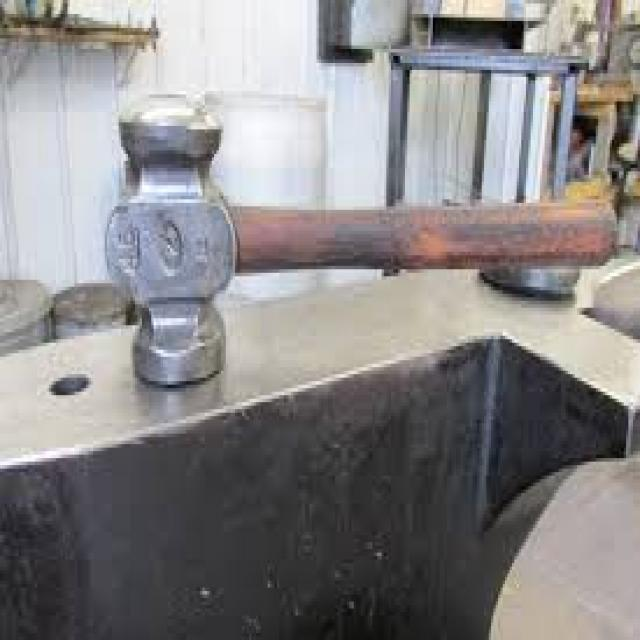hammer: (97, 77, 628, 399)
